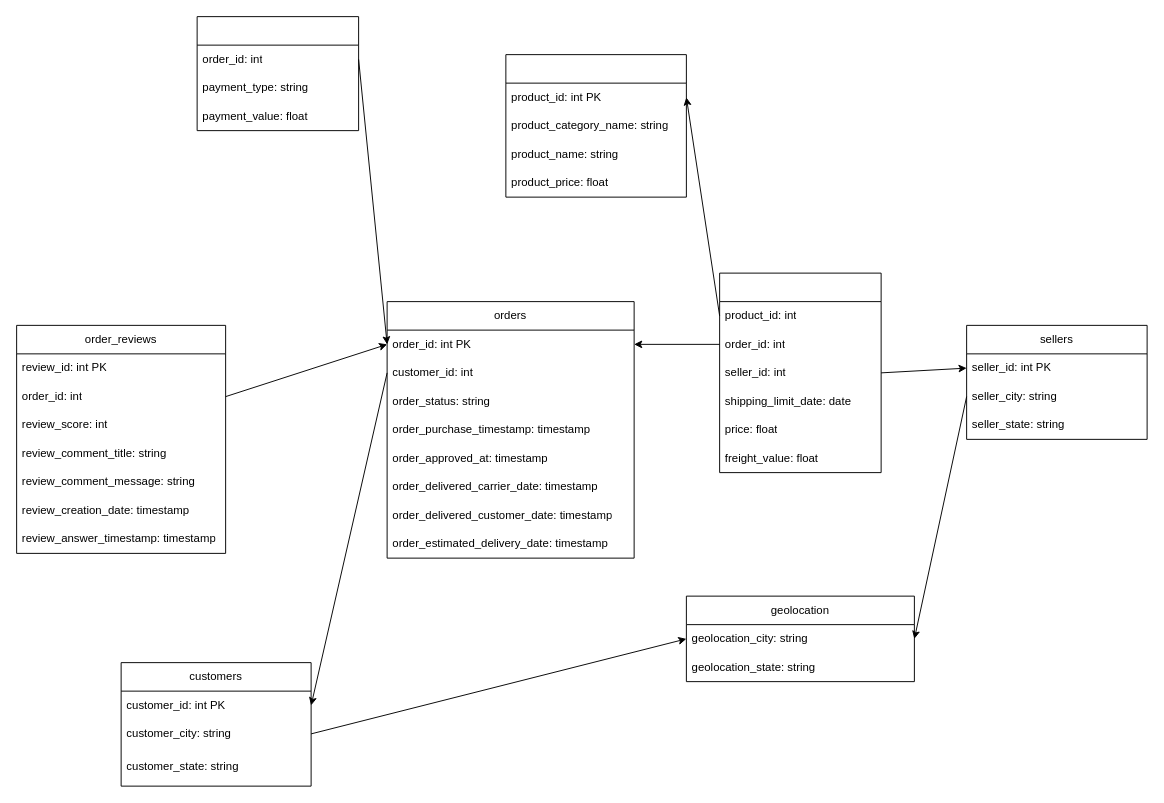
Image size: 1164x803. Some labels were removed from this diagram. The shapes that lost their labels are listed below. From the top down, each one's box as (x1, y1, x2, y2) in pixels, then its label:
(196, 16, 359, 131): order_payments
(505, 54, 686, 197): products
(719, 272, 881, 473): order_items
